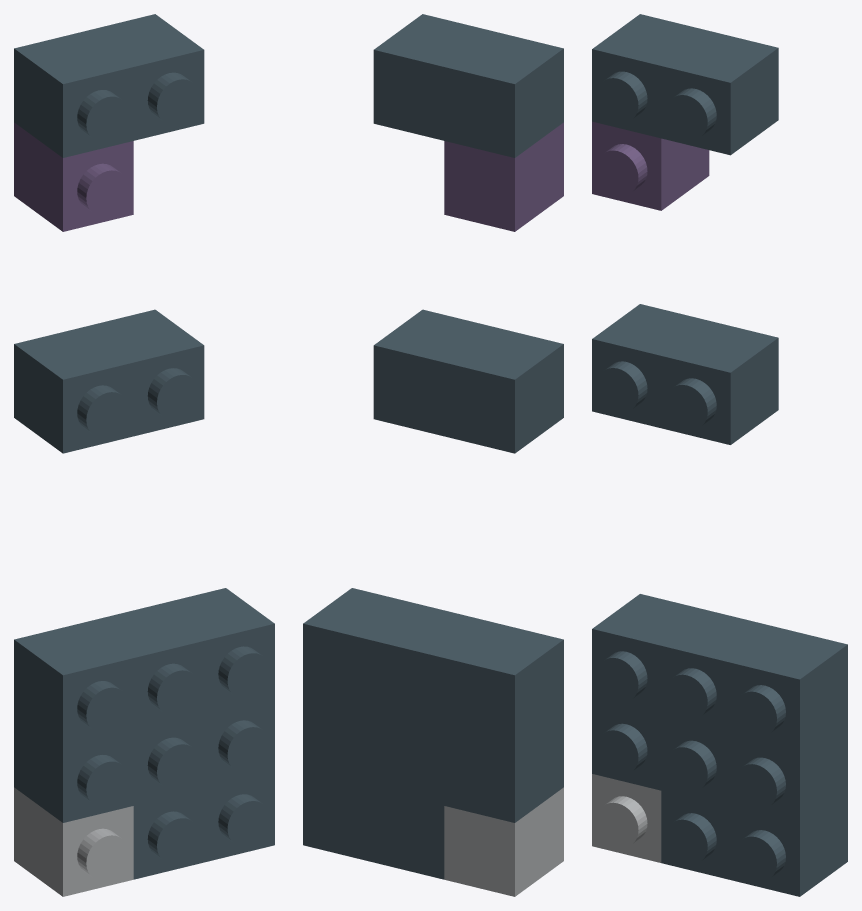
Rendered from current.glb.
The picture shows the model from 3 angles, left to right: view 1: azimuth 30°, elevation 25°; view 2: azimuth 150°, elevation 25°; view 3: azimuth 330°, elevation 25°; orthographic projection.
Parts seen in each view (by area): view 1: world; view 2: world; view 3: world.
Part boxes in pixels (x1,y1,x2,y2): world: (14, 14, 274, 896); world: (303, 14, 563, 896); world: (592, 14, 847, 896).
Size of the model in its own units: 24 by 88 by 11.4.
